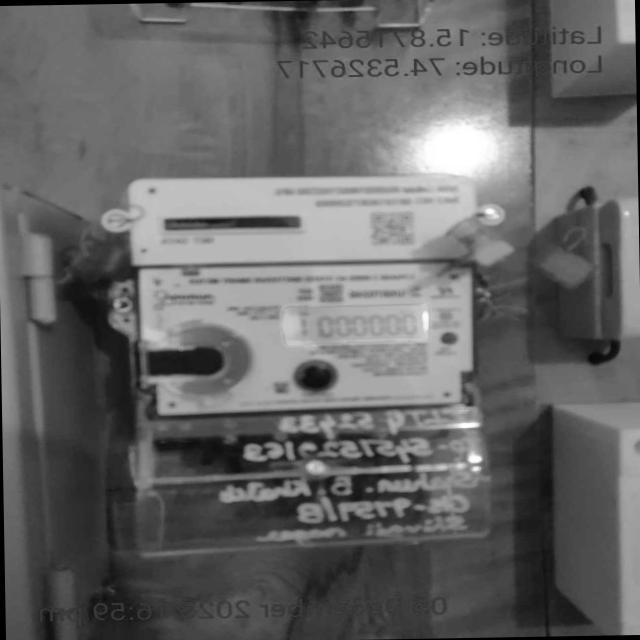meter: (124, 176, 482, 417)
